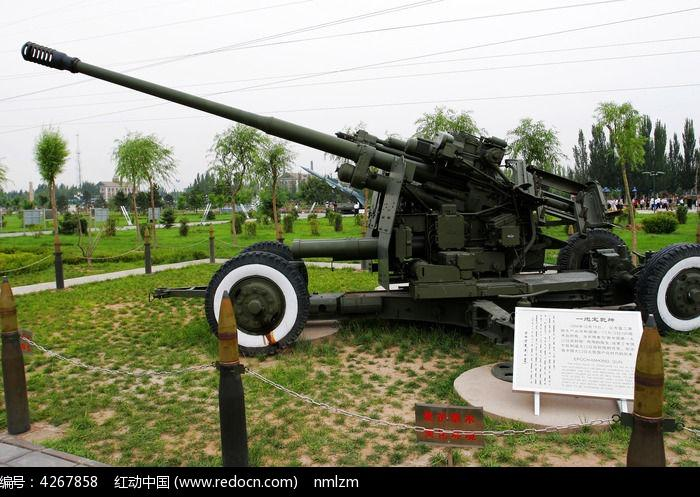MIL_SPG: (22, 44, 700, 355)
